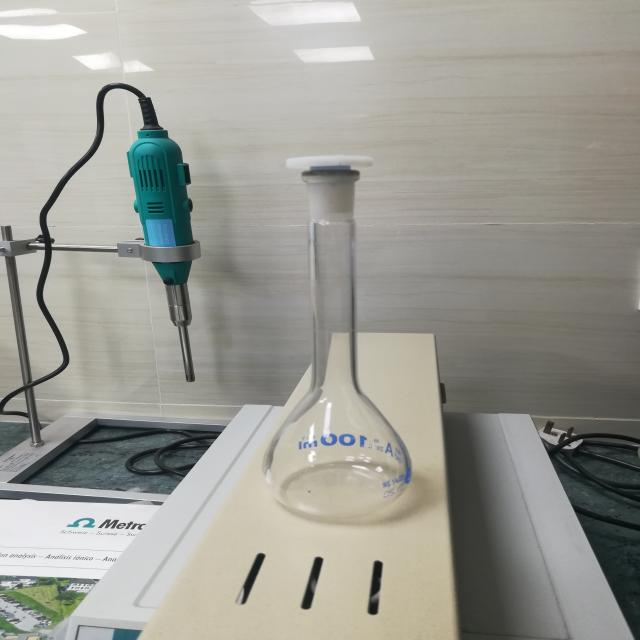Volumetric_Flask: (239, 126, 473, 544)
